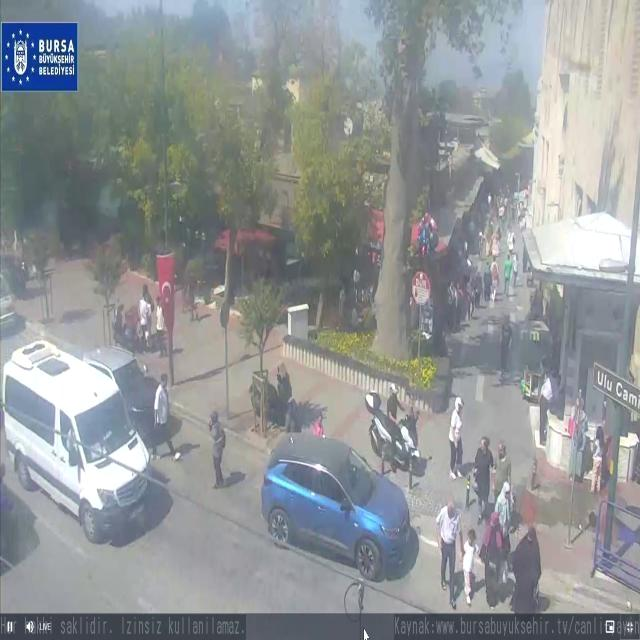Car: (260, 434, 413, 578), (80, 343, 168, 447)
Cycle: (360, 392, 428, 479), (250, 364, 302, 436), (111, 299, 144, 359)
Van: (0, 337, 168, 546)
